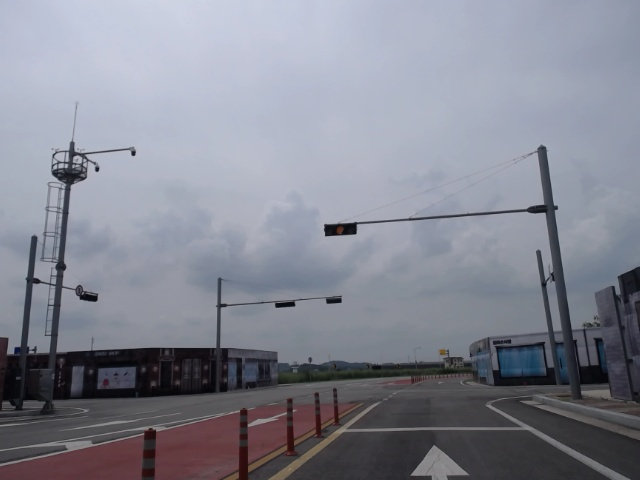orange_3: (324, 222, 357, 236)
